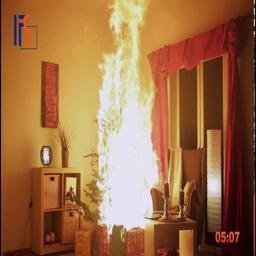fire: (99, 0, 156, 227)
